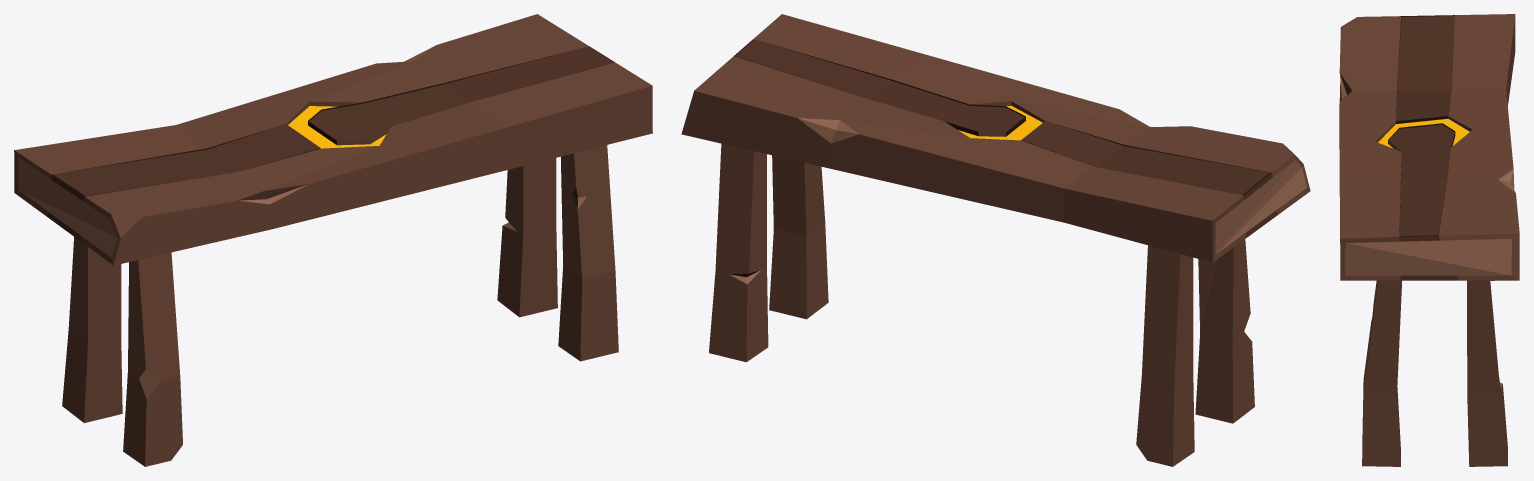
Rendered from Bench_01.glb.
3 views of the same model, side by side, from view 1: azimuth 30°, elevation 25°; view 2: azimuth 150°, elevation 25°; view 3: azimuth 270°, elevation 25° (orthographic). The views are drawn at different scales.
Visible parts, largest first — view 1: Bench_01; view 2: Bench_01; view 3: Bench_01.
Part boxes in pixels (x1,y1,x2,y2): Bench_01: [14, 14, 652, 466]; Bench_01: [681, 14, 1310, 466]; Bench_01: [1339, 14, 1519, 466].
Size of what is drawn, in the model's own units: 1.85 by 0.8924 by 0.6143.
Materials: 2 (2 with a texture image).
